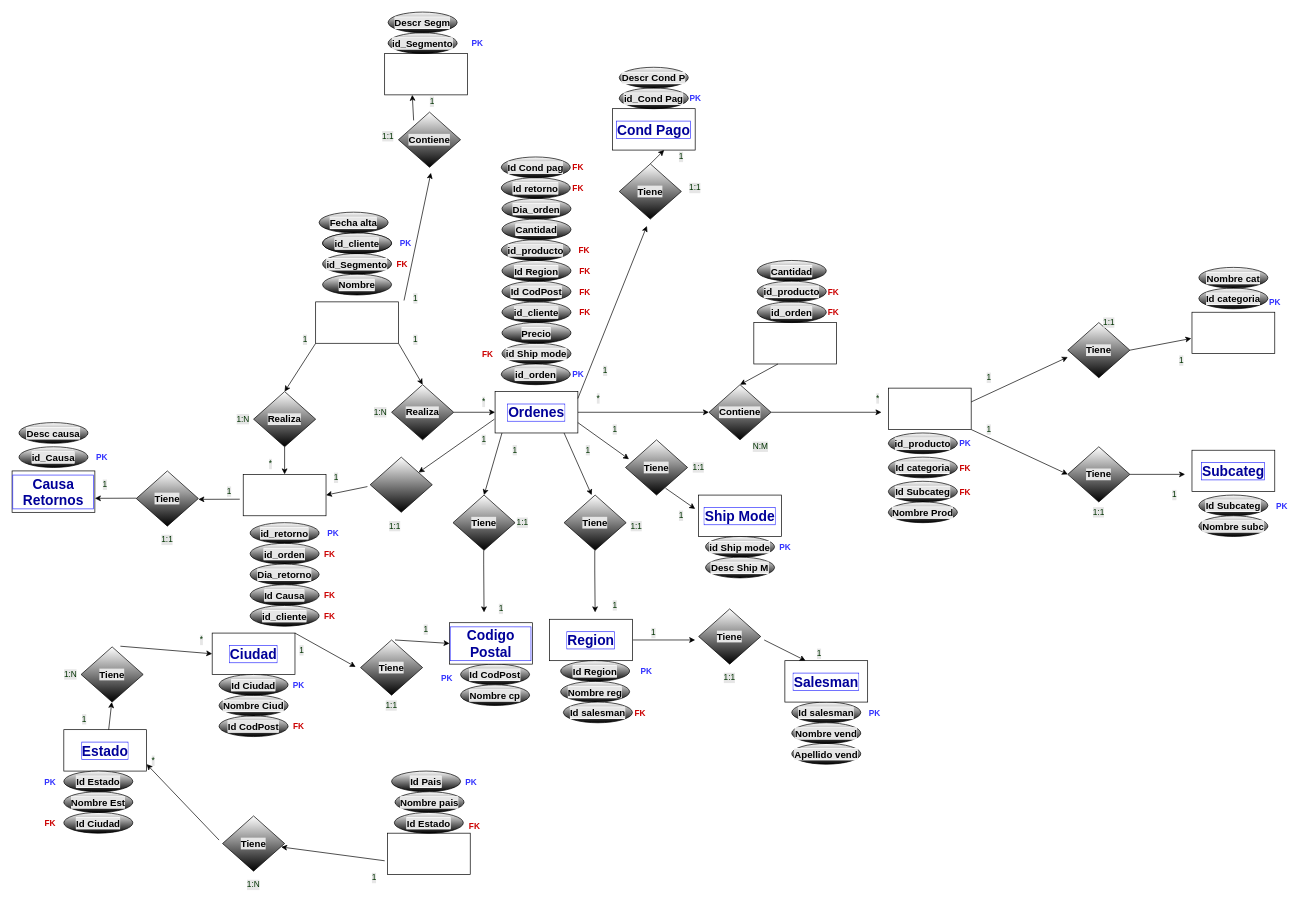
Some shapes in this 1308 by 907 pixel diagram are drawn without their labels. The centre of each missing label's shape, as x and y in pixels:
"Categoria" belongs at (x=1233, y=333).
"Cliente" belongs at (x=356, y=322).
"Generan" belongs at (x=400, y=484).
"Ordenes - Producto" belongs at (x=795, y=343).
"Pais" belongs at (x=428, y=853).
"Productos" belongs at (x=929, y=408).
"Retornos" belongs at (x=284, y=495).
"Segmento" belongs at (x=425, y=74).
